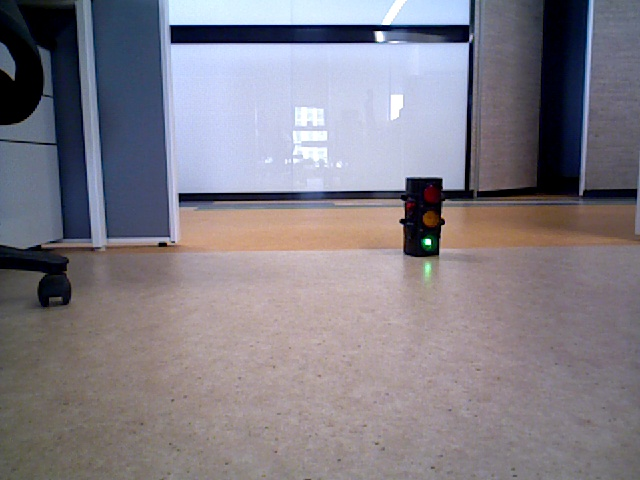green: (404, 181, 437, 251)
